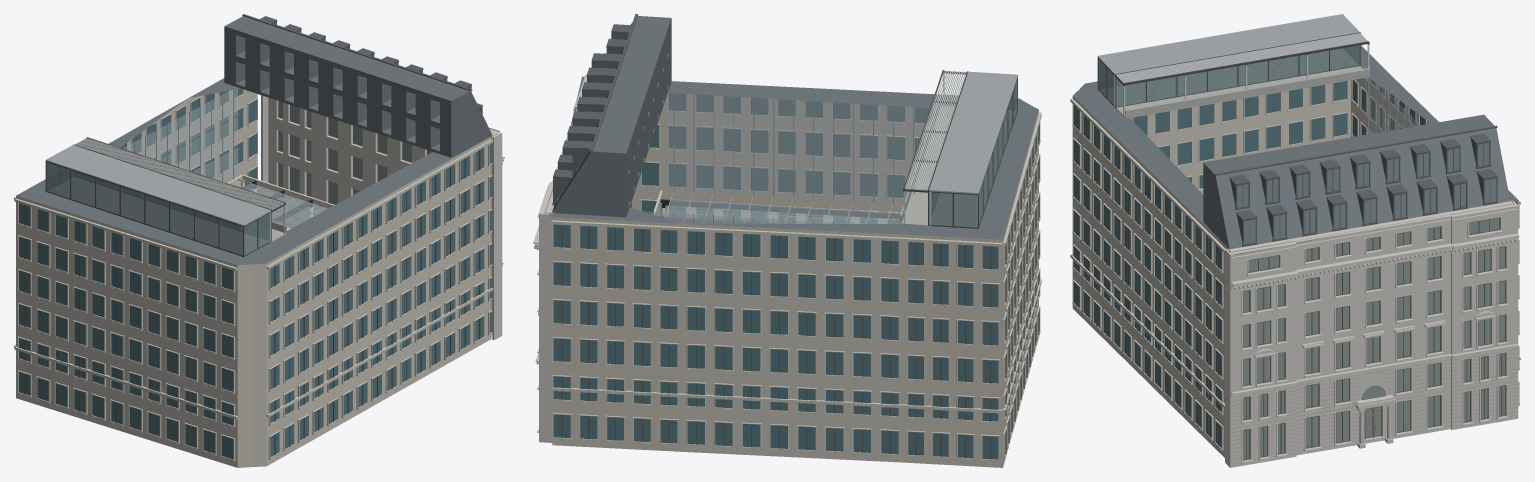
Rendered from ckk-exterior-9d69c2e0583e.glb.
3 renders of one model, left to right at view 1: azimuth 30°, elevation 25°; view 2: azimuth 150°, elevation 25°; view 3: azimuth 270°, elevation 25°, orthographic. The views are drawn at different scales.
Visible parts, largest first — view 1: CKK.001; view 2: CKK.001; view 3: CKK.001.
Part boxes in pixels (box(x1,y1,x2,y2)): CKK.001: box(14, 14, 504, 467); CKK.001: box(533, 14, 1041, 467); CKK.001: box(1070, 14, 1520, 467).
Bounding box in the file's own units: 56.1 × 32.3 × 47.89.
